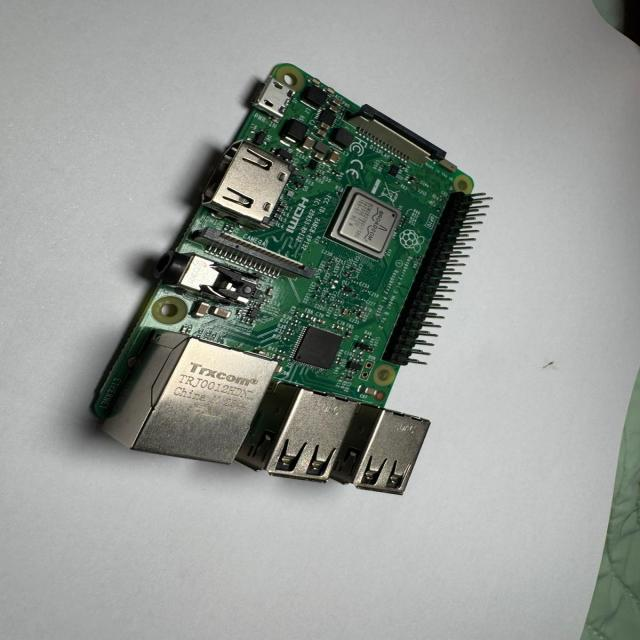CPU: (328, 187, 408, 261)
Ethernet: (97, 328, 277, 467)
GPIO: (379, 185, 496, 369)
HDMI: (200, 138, 304, 233)
RAM-3: (290, 324, 349, 373)
Raspberry: (88, 63, 504, 497)
